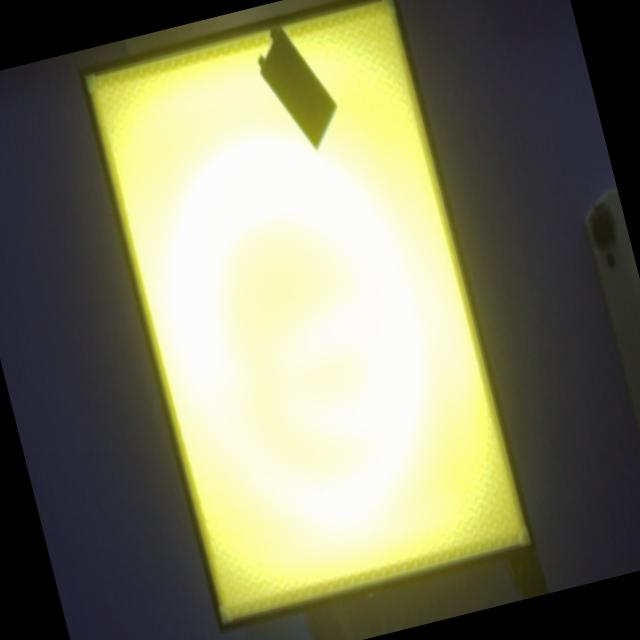bateria: (257, 27, 337, 150)
mesa: (78, 0, 537, 633)
